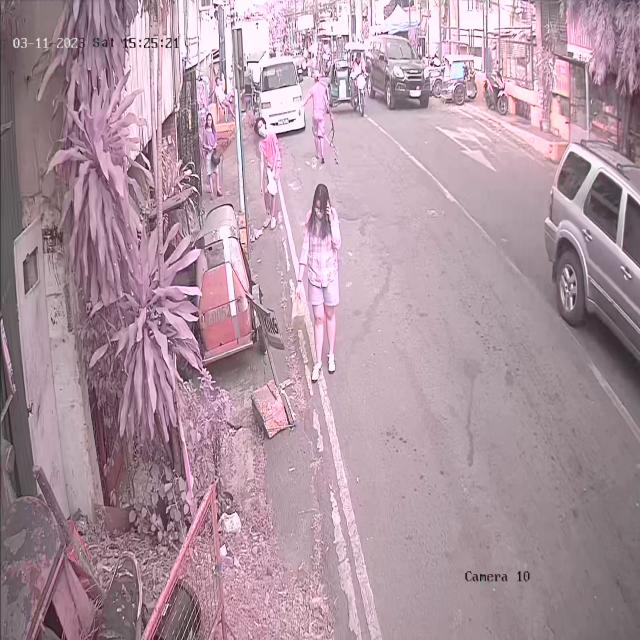human: (296, 169, 343, 387), (248, 117, 281, 244), (306, 67, 332, 166), (204, 114, 222, 202)
trash: (291, 285, 306, 328), (264, 160, 280, 199), (250, 217, 265, 245), (208, 145, 222, 167)
